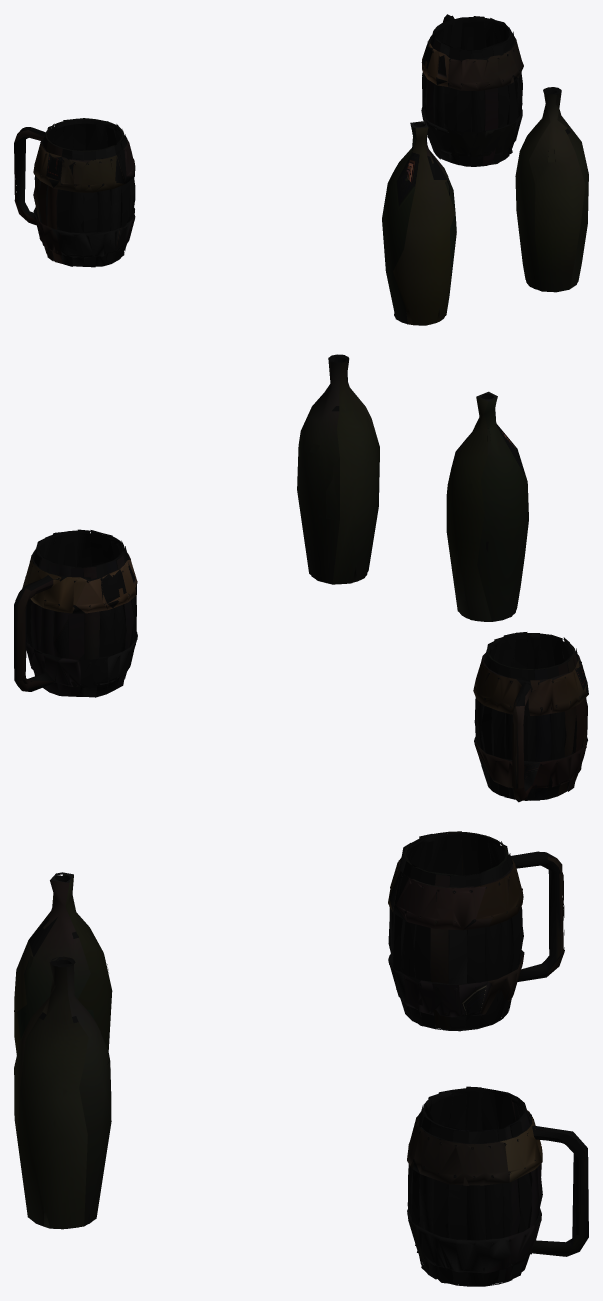
The model's file is bar ivan moro ornamenti 1.glb.
3 views of the same model, one above another, from view 1: azimuth 30°, elevation 25°; view 2: azimuth 150°, elevation 25°; view 3: azimuth 270°, elevation 25° (orthographic). The views are drawn at different scales.
Visible parts, largest first — view 1: Object_37.006; view 2: Object_37.006; view 3: Object_37.006.
Part boxes in pixels (box(x1,y1,x2,y2)): Object_37.006: box(14, 14, 588, 325); Object_37.006: box(14, 354, 588, 802); Object_37.006: box(14, 831, 588, 1286).
Bounding box in the file's own units: 0.7583 × 0.2871 × 0.5881.
Materials: 1 (1 with a texture image).
